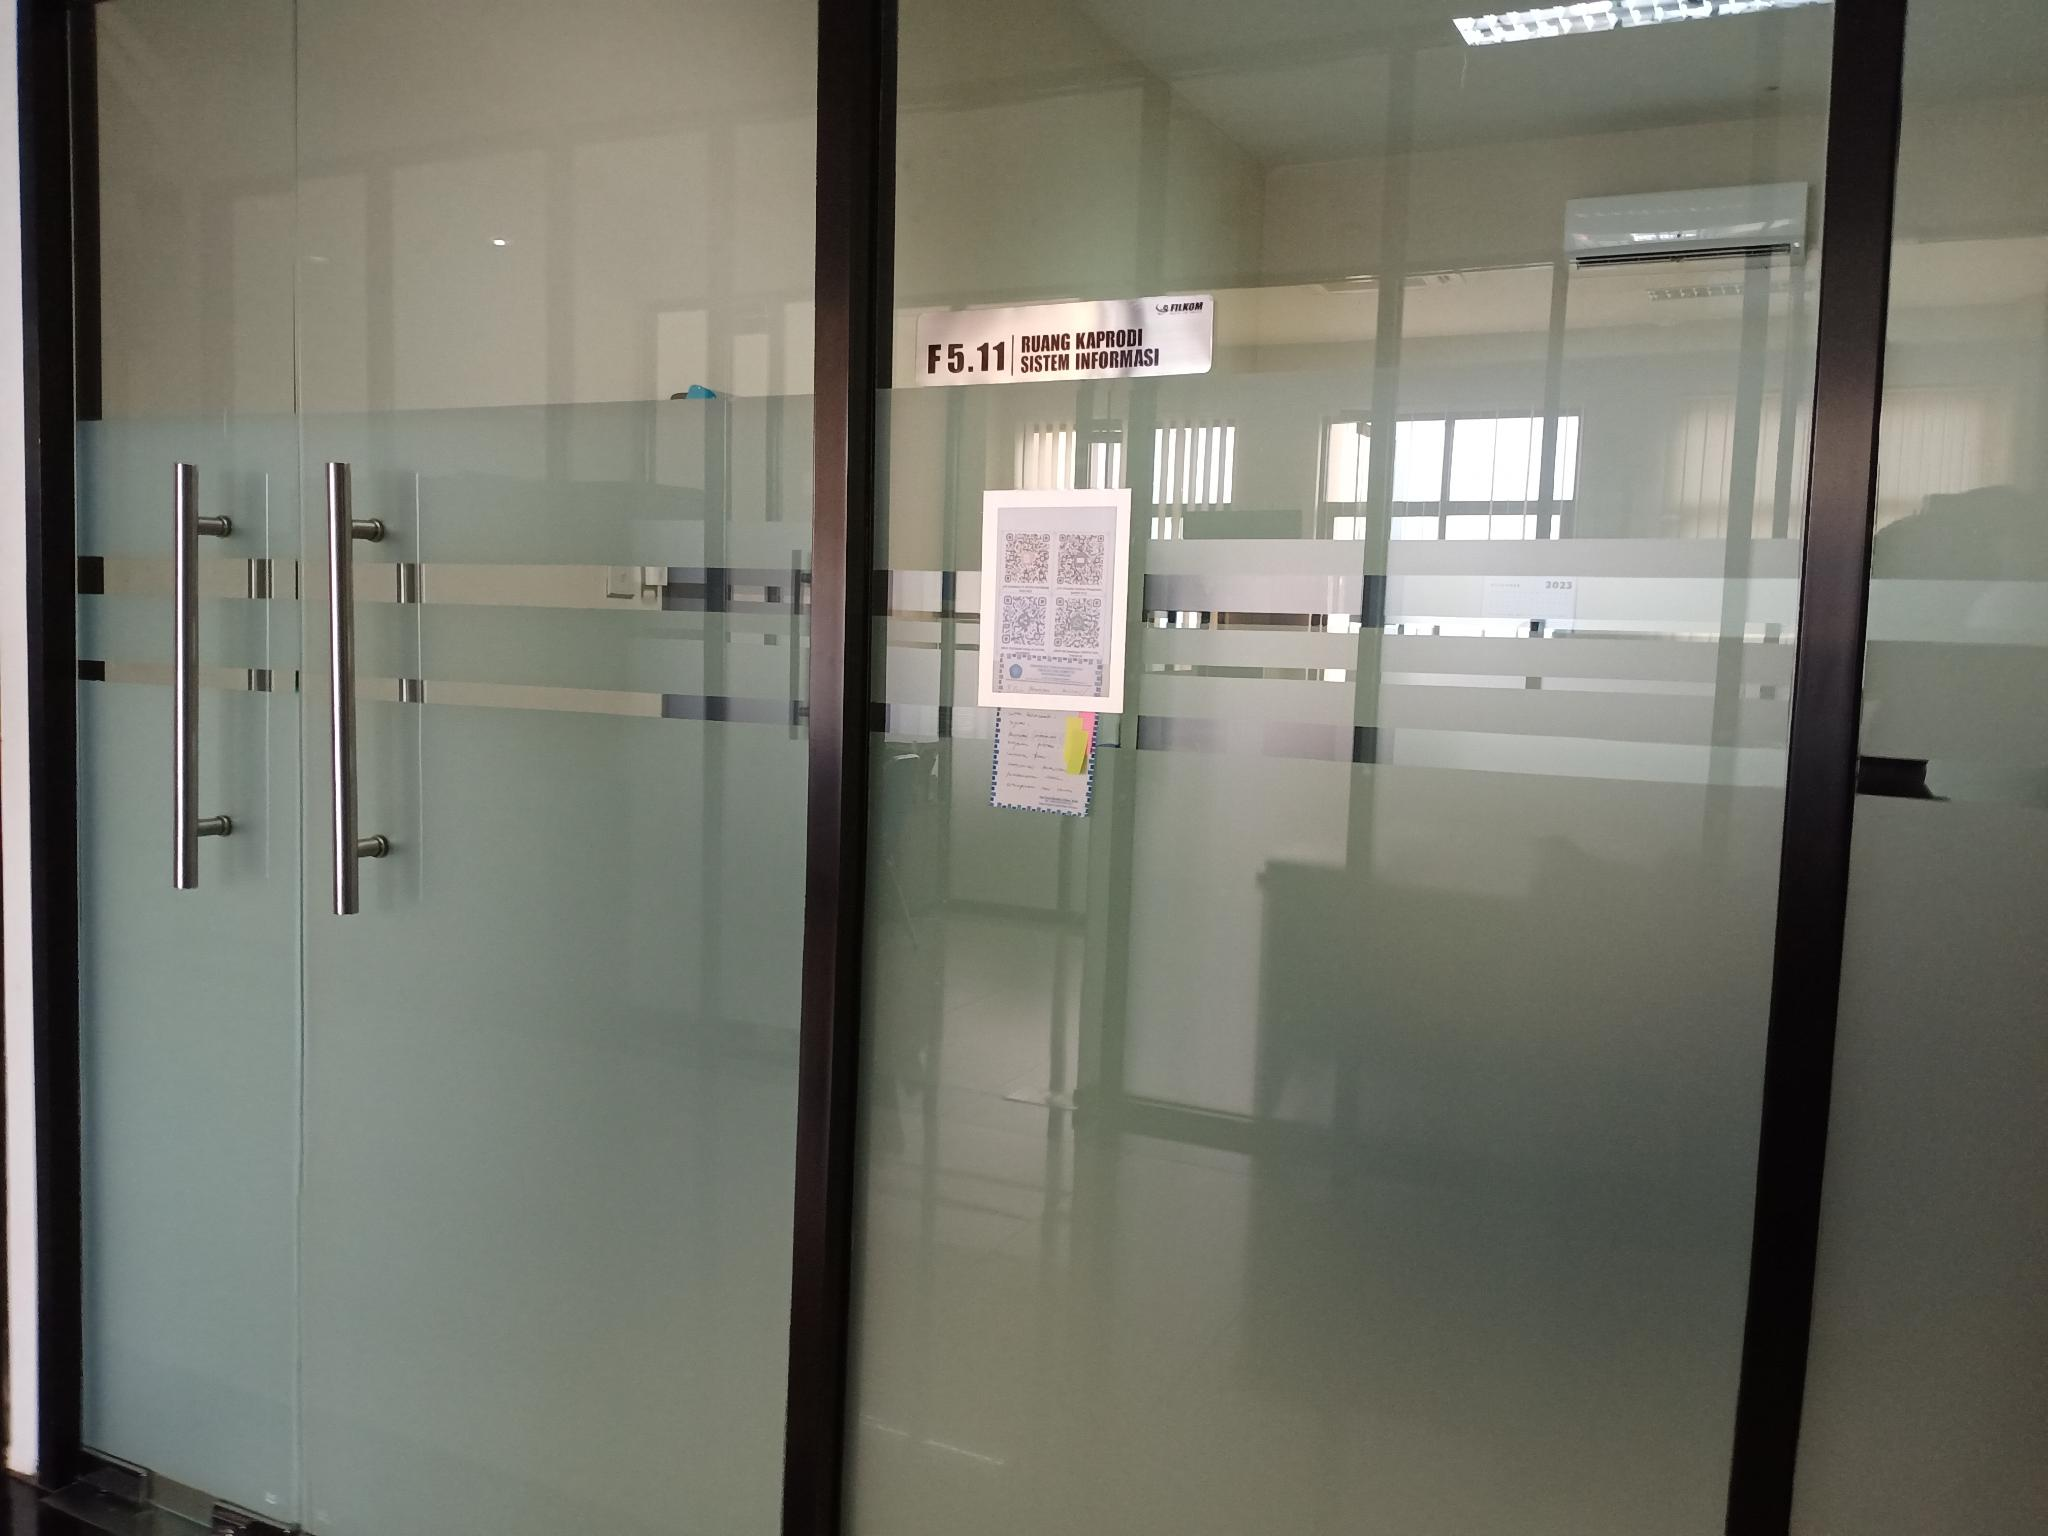plate: (914, 294, 1216, 386)
